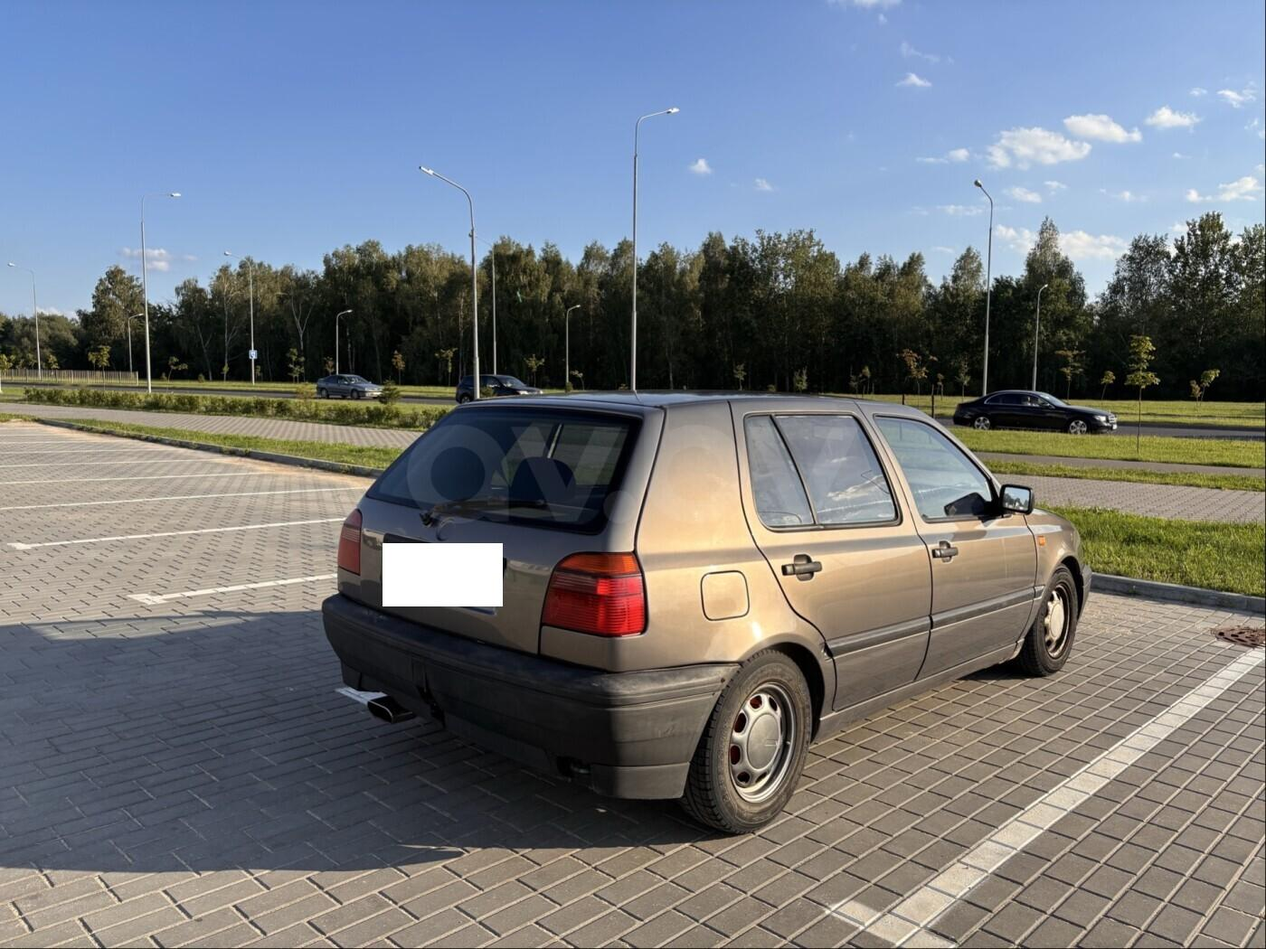Golf_1991-2000: (315, 387, 1099, 830)
